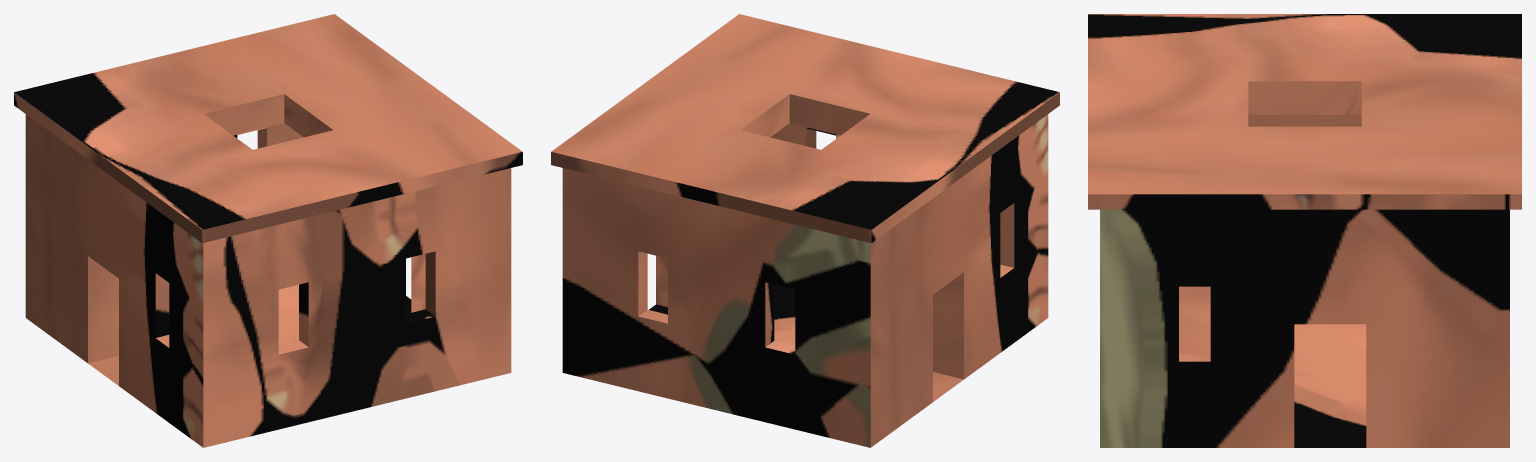
File: Tower_Top_01.fbx
3 renders of one model, left to right at view 1: azimuth 30°, elevation 25°; view 2: azimuth 150°, elevation 25°; view 3: azimuth 270°, elevation 25°, orthographic. The views are drawn at different scales.
Visible parts, largest first — view 1: Tower_Top_01; view 2: Tower_Top_01; view 3: Tower_Top_01.
Part boxes in pixels (left/top/right/bottom): Tower_Top_01: left=14, top=14, right=522, bottom=447; Tower_Top_01: left=551, top=14, right=1059, bottom=447; Tower_Top_01: left=1088, top=14, right=1521, bottom=447.
Bounding box in the file's own units: 2.08 × 1.39 × 2.12.
